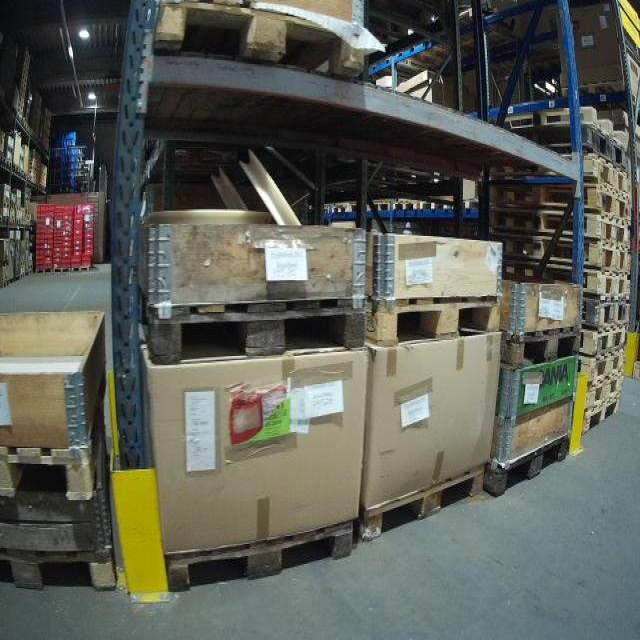pallet: (163, 515, 359, 597), (130, 296, 369, 363), (160, 3, 368, 78), (0, 390, 106, 501), (358, 466, 487, 543), (362, 286, 500, 353), (0, 538, 118, 594), (482, 434, 570, 496), (494, 206, 629, 244), (493, 181, 631, 217), (499, 322, 579, 373), (504, 238, 628, 270), (584, 154, 636, 197), (559, 83, 640, 104), (584, 389, 623, 432), (582, 130, 627, 164), (588, 367, 626, 402), (581, 325, 628, 353), (584, 299, 628, 325), (584, 273, 628, 299), (590, 352, 626, 372), (390, 200, 418, 213), (366, 199, 394, 212), (419, 197, 447, 209), (332, 201, 351, 214), (71, 266, 90, 273), (35, 268, 54, 274), (54, 267, 71, 273), (2, 201, 10, 209), (2, 280, 10, 288), (7, 145, 13, 153), (15, 205, 21, 211), (19, 154, 24, 161), (20, 272, 25, 279)
